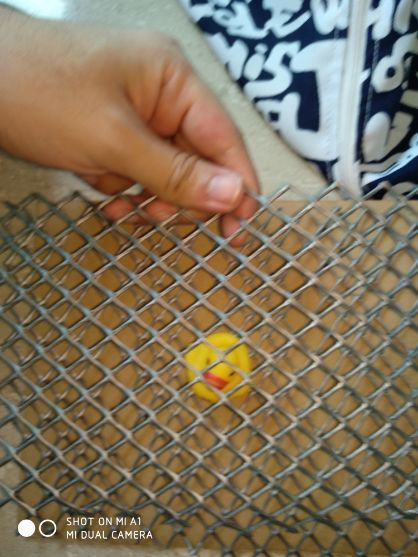unknownObject: (182, 333, 253, 399)
